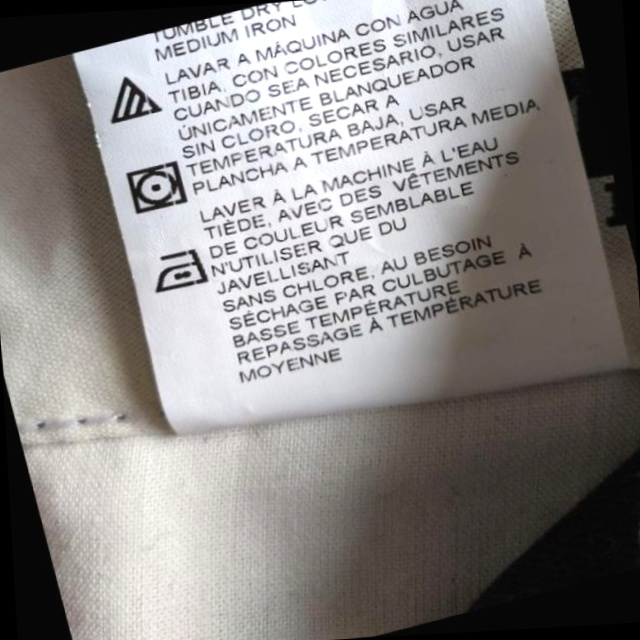iron_medium: (148, 240, 214, 296)
non_chlorine_bleach: (98, 63, 170, 134)
tumble_dry_low: (118, 154, 193, 220)
